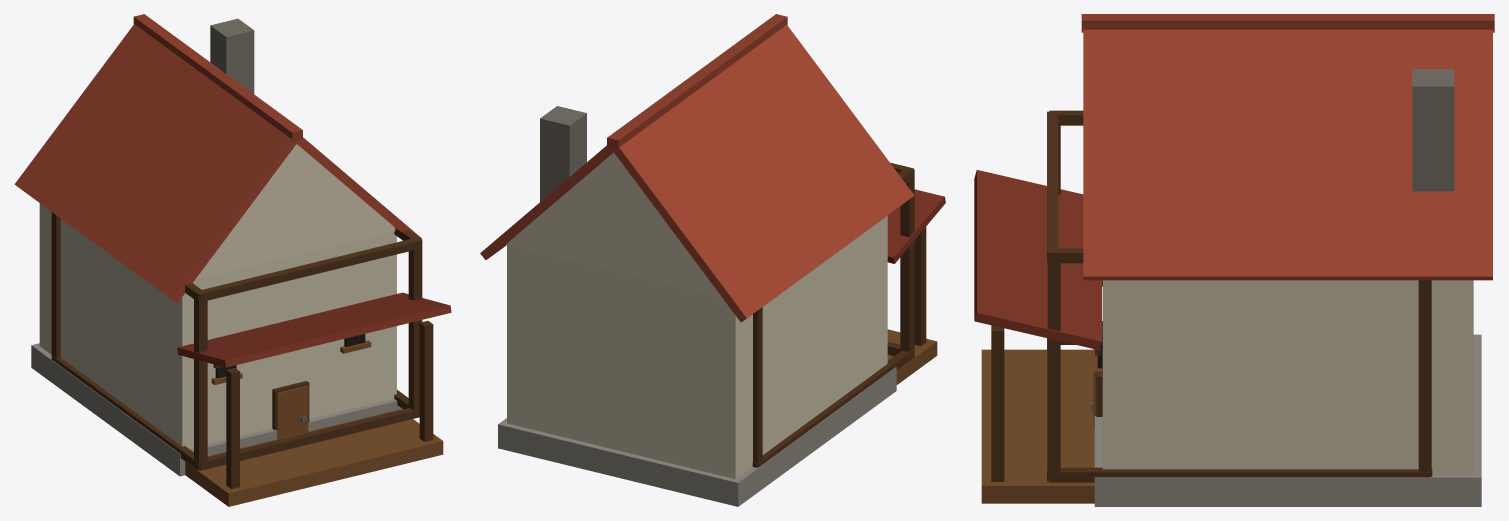
Rendered from house_porch_broken.glb.
The picture shows the model from 3 angles, left to right: view 1: azimuth 30°, elevation 25°; view 2: azimuth 150°, elevation 25°; view 3: azimuth 270°, elevation 25°; orthographic projection. The views are drawn at different scales.
Visible parts, largest first — view 1: house_porch_piece4, house_porch_piece6, house_porch_piece2, house_porch_piece3, house_porch_piece13, house_porch_piece11, house_porch_piece10, house_porch_piece12, house_porch_piece0, house_porch_piece8, house_porch_piece1; view 2: house_porch_piece2, house_porch_piece4, house_porch_piece12, house_porch_piece8, house_porch_piece5, house_porch_piece0, house_porch_piece11, house_porch_piece6, house_porch_piece13, house_porch_piece1, house_porch_piece10; view 3: house_porch_piece7, house_porch_piece8, house_porch_piece13, house_porch_piece3, house_porch_piece0, house_porch_piece6, house_porch_piece9, house_porch_piece10, house_porch_piece4, house_porch_piece11, house_porch_piece5, house_porch_piece1.
Boxes of the visible parts, box(x1,y1,x2,y2) form: house_porch_piece4: box(48, 187, 251, 466); house_porch_piece6: box(133, 198, 392, 506); house_porch_piece2: box(14, 23, 194, 260); house_porch_piece3: box(323, 250, 451, 469); house_porch_piece13: box(219, 104, 425, 299); house_porch_piece11: box(164, 166, 287, 361); house_porch_piece10: box(95, 289, 383, 479); house_porch_piece12: box(31, 225, 115, 414); house_porch_piece0: box(144, 26, 266, 134); house_porch_piece8: box(133, 14, 254, 93); house_porch_piece1: box(176, 103, 246, 184); house_porch_piece2: box(507, 111, 793, 433); house_porch_piece4: box(774, 151, 945, 384); house_porch_piece12: box(653, 298, 817, 506); house_porch_piece8: box(480, 106, 633, 368); house_porch_piece5: box(499, 144, 797, 485); house_porch_piece0: box(631, 42, 759, 141); house_porch_piece11: box(796, 54, 919, 192); house_porch_piece6: box(836, 299, 937, 418); house_porch_piece13: box(738, 14, 808, 95); house_porch_piece1: box(719, 79, 805, 154); house_porch_piece10: box(807, 359, 858, 456); house_porch_piece7: box(1111, 142, 1435, 506); house_porch_piece8: box(1287, 14, 1494, 420); house_porch_piece13: box(1038, 14, 1237, 401); house_porch_piece3: box(974, 211, 1220, 506); house_porch_piece0: box(1175, 14, 1459, 178); house_porch_piece6: box(974, 162, 1102, 426); house_porch_piece9: box(1241, 419, 1481, 506); house_porch_piece10: box(981, 286, 1102, 447); house_porch_piece4: box(974, 110, 1083, 225); house_porch_piece11: box(974, 123, 1082, 226); house_porch_piece5: box(1465, 375, 1481, 476); house_porch_piece1: box(1440, 410, 1467, 457).
Size of the model in its own units: 2.33 by 2.86 by 3.22.
